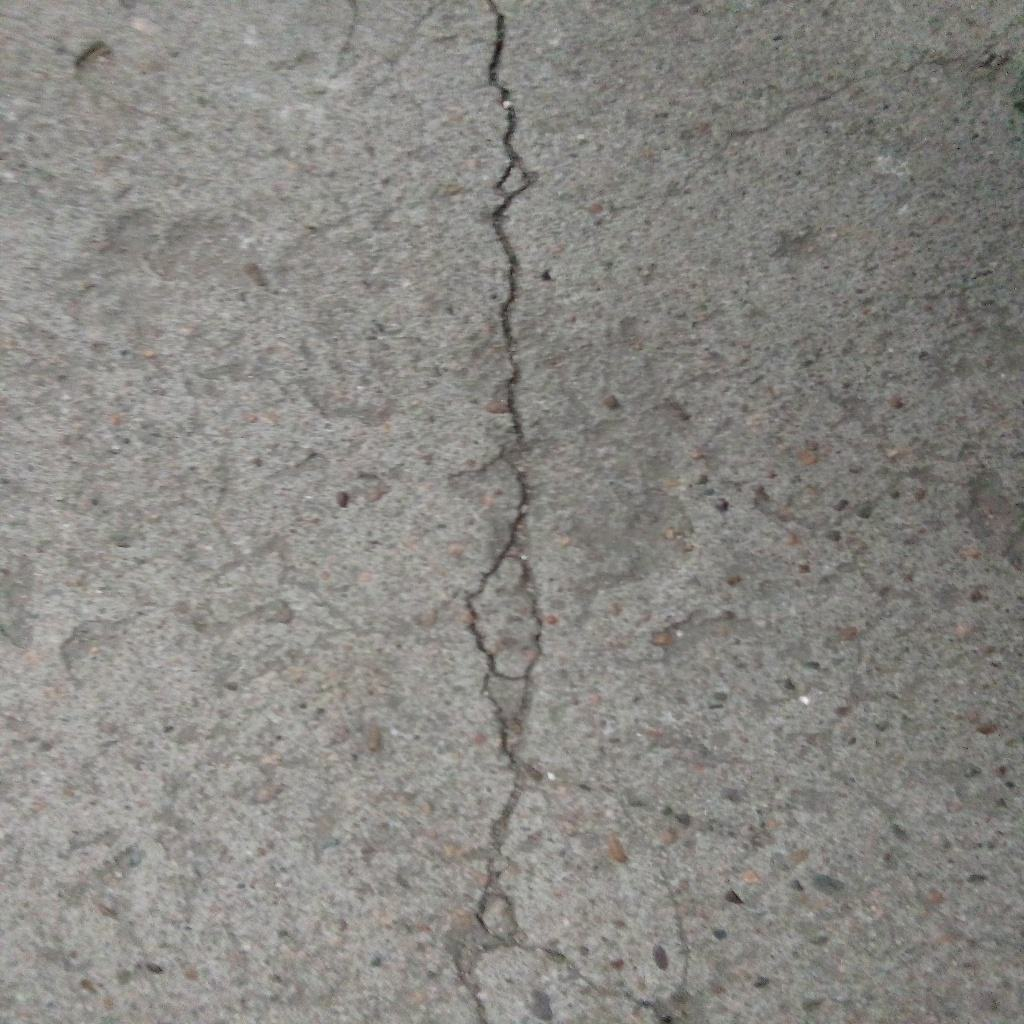Crack: (442, 1, 545, 1024)
